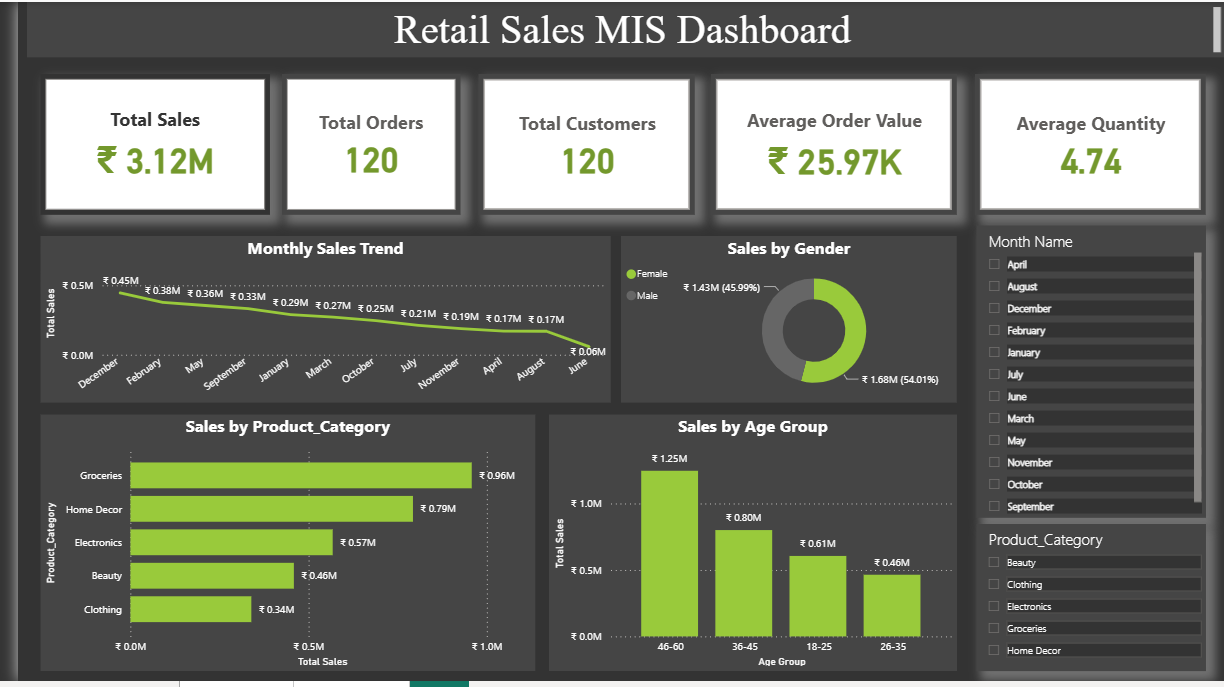

This screenshot's page, from the dashboard's own definition file:
{"tool":"powerbi","page":{"name":"Page 2","canvas":[1280,720],"ordinal":0},"visuals":[{"type":"textbox","box":[9.5,0,1270.9,58.9],"z":0},{"type":"cardVisual","fields":{"Data":["Sheet1.Total Sales"]},"box":[23.9,76.3,243.4,149.5],"z":1000},{"type":"cardVisual","fields":{"Data":["Sheet1.Total Orders"]},"box":[279.9,76.3,189.3,149.5],"z":2000},{"type":"cardVisual","fields":{"Data":["Sheet1.Total Customers"]},"box":[488.3,76.3,229,149.5],"z":3000},{"type":"cardVisual","fields":{"Data":["Sheet1.Average Order Value"]},"box":[734.9,76.3,260.9,149.5],"z":4000},{"type":"cardVisual","fields":{"Data":["Sheet1.Average Quantity"]},"box":[1014.8,76.3,245,149.5],"z":5000},{"type":"slicer","fields":{"Values":["Sheet1.Month Name"]},"box":[1016.4,237,243.4,310.2],"z":5002},{"type":"slicer","fields":{"Values":["Sheet1.Product_Category"]},"box":[1016.4,553.5,243.4,155.9],"z":5004},{"type":"lineChart","title":"Monthly Sales Trend","fields":{"Y":["Sum(Sheet1.Total_Amount)"],"Category":["Sheet1.Date.Variation.Date Hierarchy.Month"]},"box":[23.9,225.9,601.3,198.8],"z":5005},{"type":"clusteredBarChart","title":"Sales by Product_Category","fields":{"Category":["Sheet1.Product_Category"],"Y":["Sheet1.Total Sales"]},"box":[23.9,437.4,524.9,272],"z":5006},{"type":"donutChart","title":"Sales by Gender","fields":{"Category":["Sheet1.Gender"],"Y":["Sheet1.Total Sales"]},"box":[639.4,225.9,356.3,198.8],"z":5007},{"type":"clusteredColumnChart","title":"Sales by Age Group","fields":{"Category":["Sheet1.Age Group"],"Y":["Sheet1.Total Sales"]},"box":[564.7,437.4,431.1,272],"z":5008}]}

Visuals, with their boxes in screenshot pixels (x1, y1, x2, y2), scaled from the page's 1280x720 canvas onto the 1224x687 screenshot:
textbox: [9,0,1223,56]
cardVisual - Sheet1.Total Sales: [23,73,256,215]
cardVisual - Sheet1.Total Orders: [268,73,449,215]
cardVisual - Sheet1.Total Customers: [467,73,686,215]
cardVisual - Sheet1.Average Order Value: [703,73,952,215]
cardVisual - Sheet1.Average Quantity: [970,73,1205,215]
slicer - Sheet1.Month Name: [972,226,1205,522]
slicer - Sheet1.Product_Category: [972,528,1205,677]
"Monthly Sales Trend" lineChart: [23,216,598,405]
"Sales by Product_Category" clusteredBarChart: [23,417,525,677]
"Sales by Gender" donutChart: [611,216,952,405]
"Sales by Age Group" clusteredColumnChart: [540,417,952,677]
